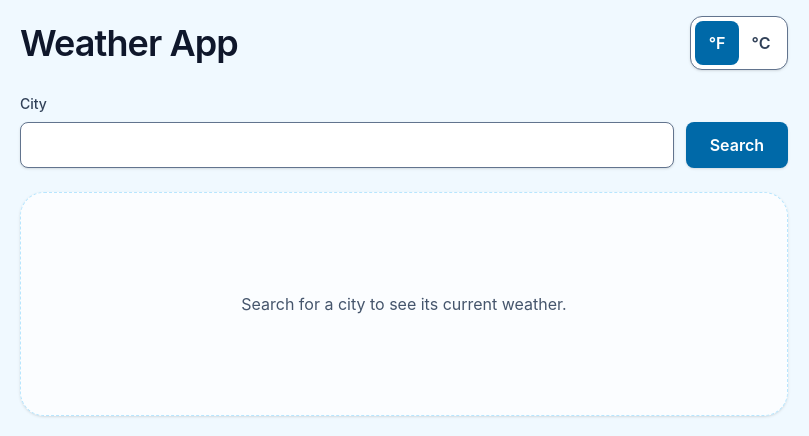
Test case: App › renders the location-not-found error with safe, category-specific content
Type "Tampa" into the field labelled "City" at {"x": 347, "y": 145}, box [20,122,674,168]
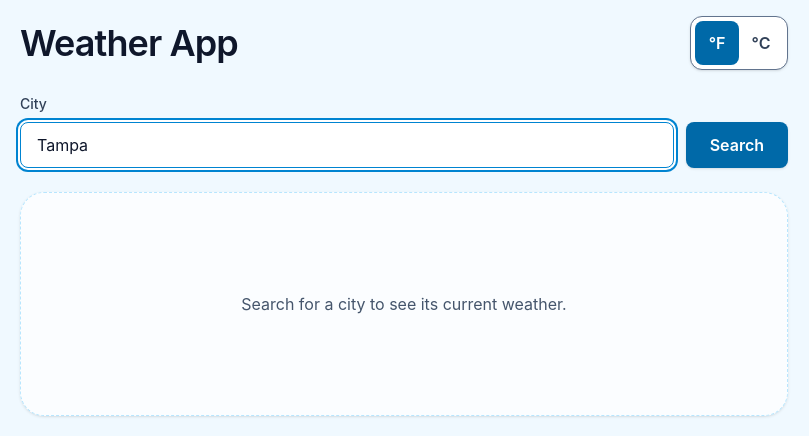
Click the button "Search" at {"x": 737, "y": 145}, box [686,122,788,168]
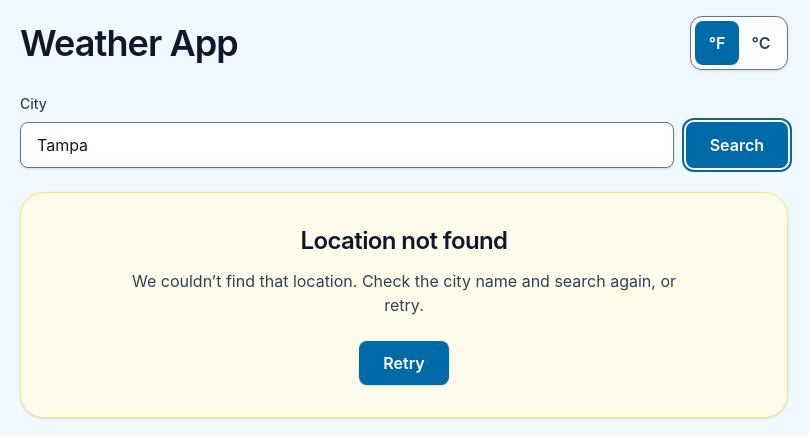
Now the heading "Location not found" is shown, box [300,226,508,255]
Now the text "We couldn’t find that location. Check the city name and search again, or retry." is shown, box [116,269,692,317]
Now the button "Retry" is enabled, box [359,341,449,385]
